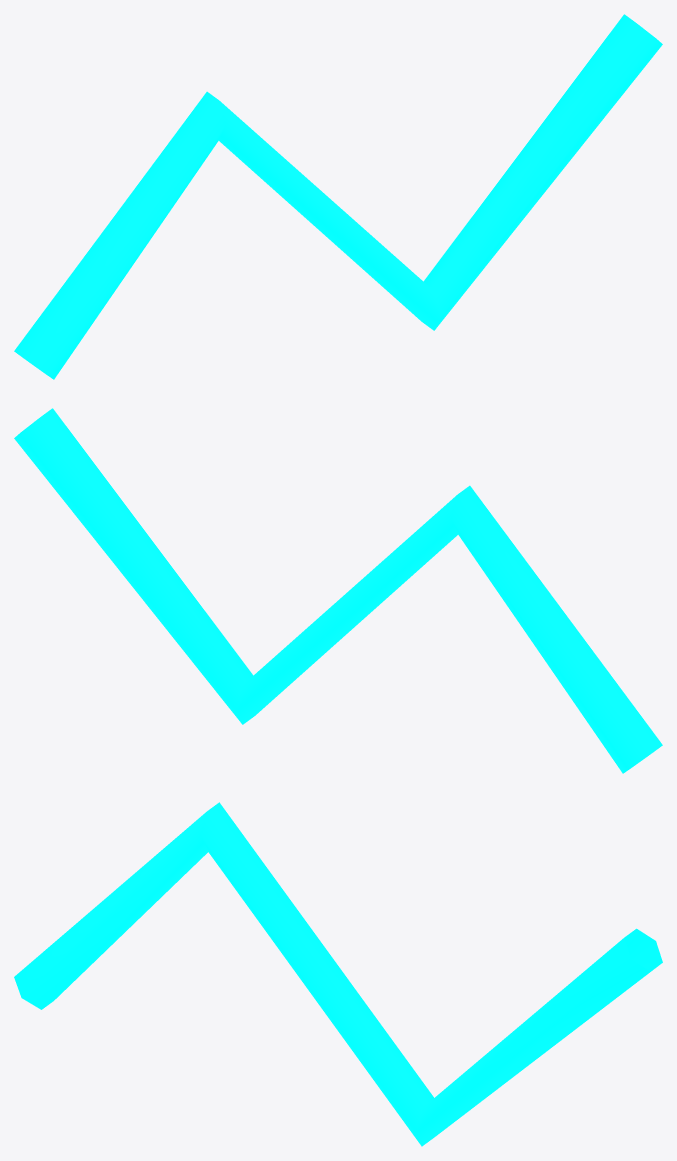
Rendered from Veteran_MaintenanceMark.glb.
3 views of the same model, one above another, from view 1: azimuth 30°, elevation 25°; view 2: azimuth 150°, elevation 25°; view 3: azimuth 330°, elevation 25° (orthographic).
Visible parts, largest first — view 1: Veteran_MaintenanceMark; view 2: Veteran_MaintenanceMark; view 3: Veteran_MaintenanceMark.
Part boxes in pixels (bbox=[...]): Veteran_MaintenanceMark: bbox=[14, 14, 662, 379]; Veteran_MaintenanceMark: bbox=[14, 408, 662, 773]; Veteran_MaintenanceMark: bbox=[14, 802, 662, 1146].
Size of the model in its own units: 0.355 by 0.1508 by 0.024.
